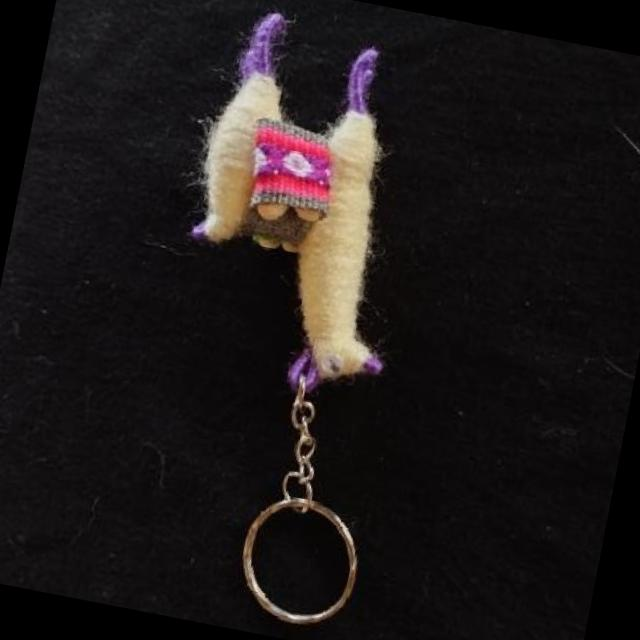Llavero: (156, 2, 448, 407)
